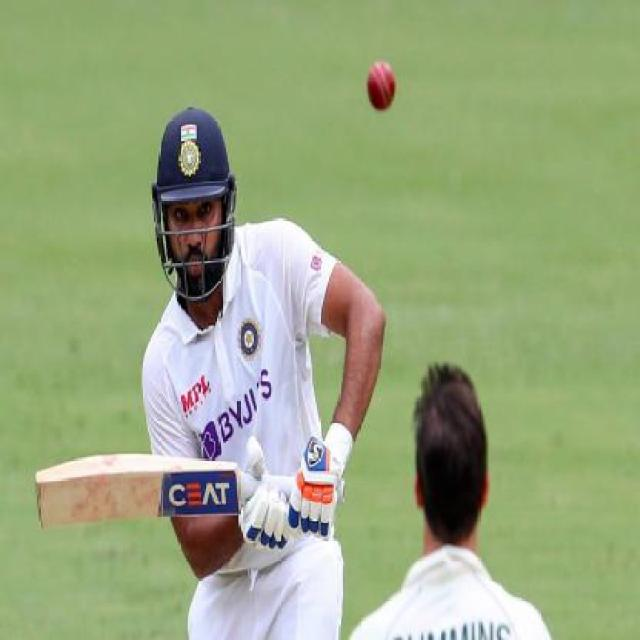ball: (346, 41, 432, 123)
